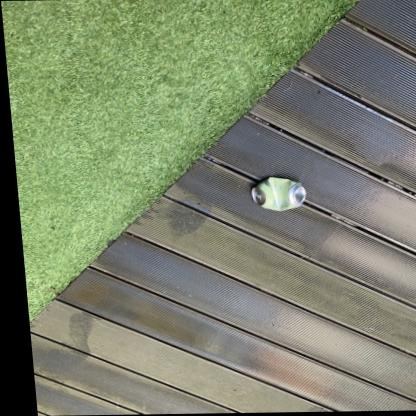trash: (251, 177, 305, 210)
